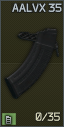SKS 7.62x39 ProMag AALVX 35-round magazine: (0, 0, 64, 127)
